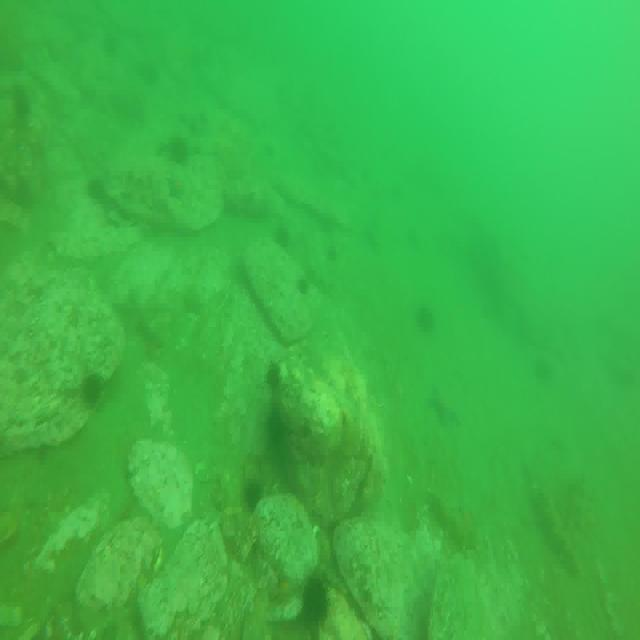echinus: (300, 570, 331, 622), (80, 370, 103, 409), (411, 298, 433, 332), (242, 477, 264, 511), (86, 172, 107, 202), (170, 138, 188, 172), (264, 359, 285, 386), (275, 223, 290, 253), (297, 276, 312, 298)
starfish: (425, 381, 460, 428)
